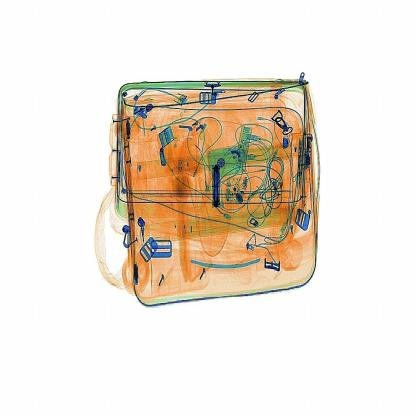scissors: (207, 162, 236, 220)
